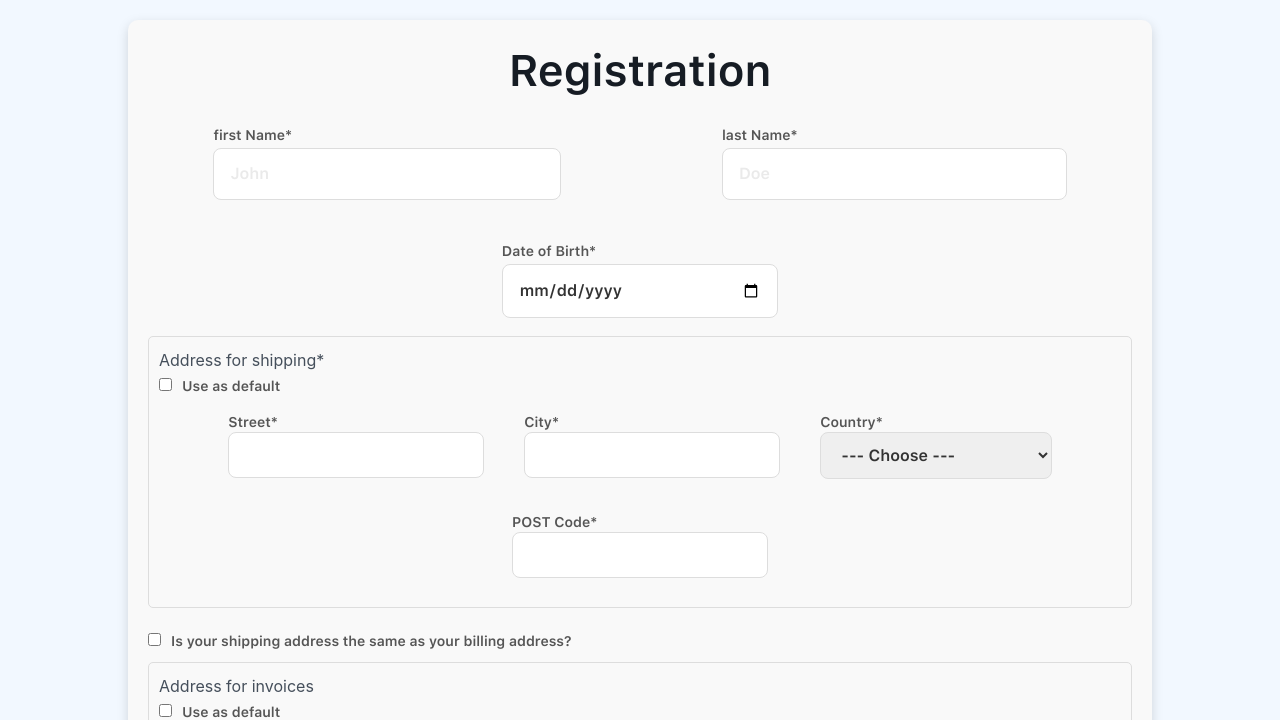
Test: checking input wrong value on Registration page › must be error message when input wrong value in Postal code for country Georgia on Registration page
Select "Georgia" in the dropdown with id "address" at (936, 456), box [820,432,1052,479]
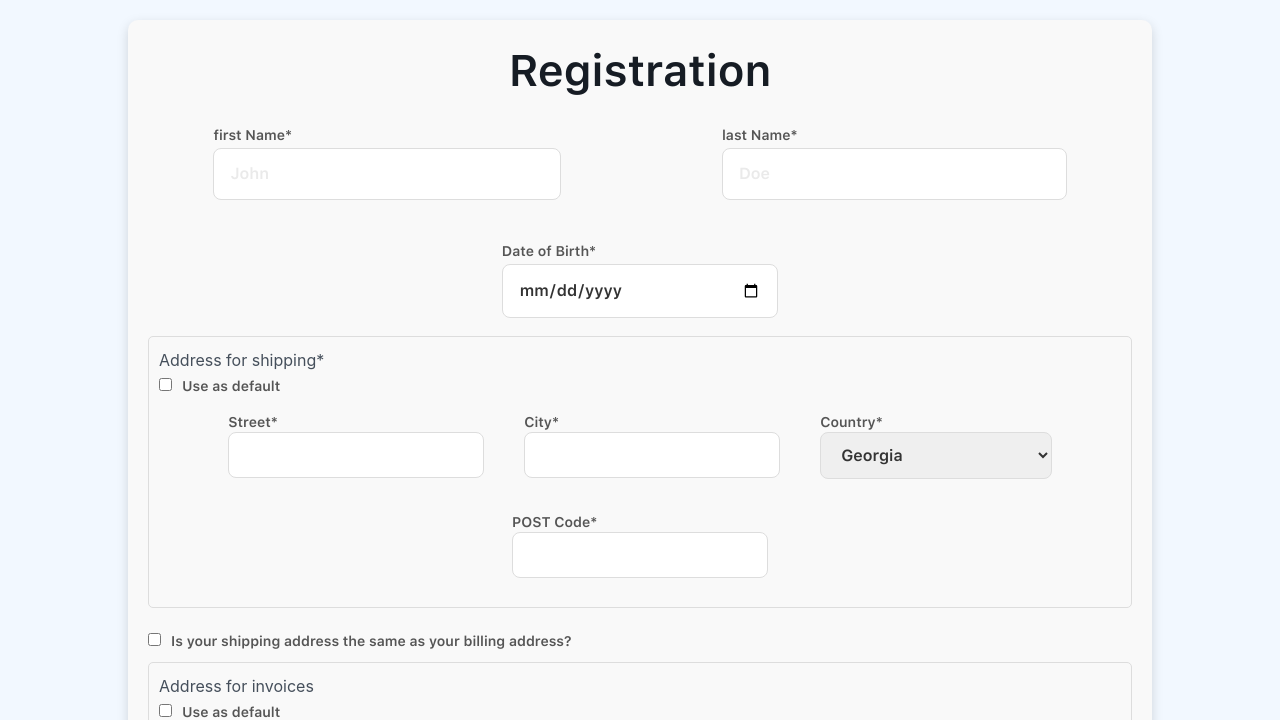
Type "100" into the field with id "address" at (640, 555), box [512,532,768,578]
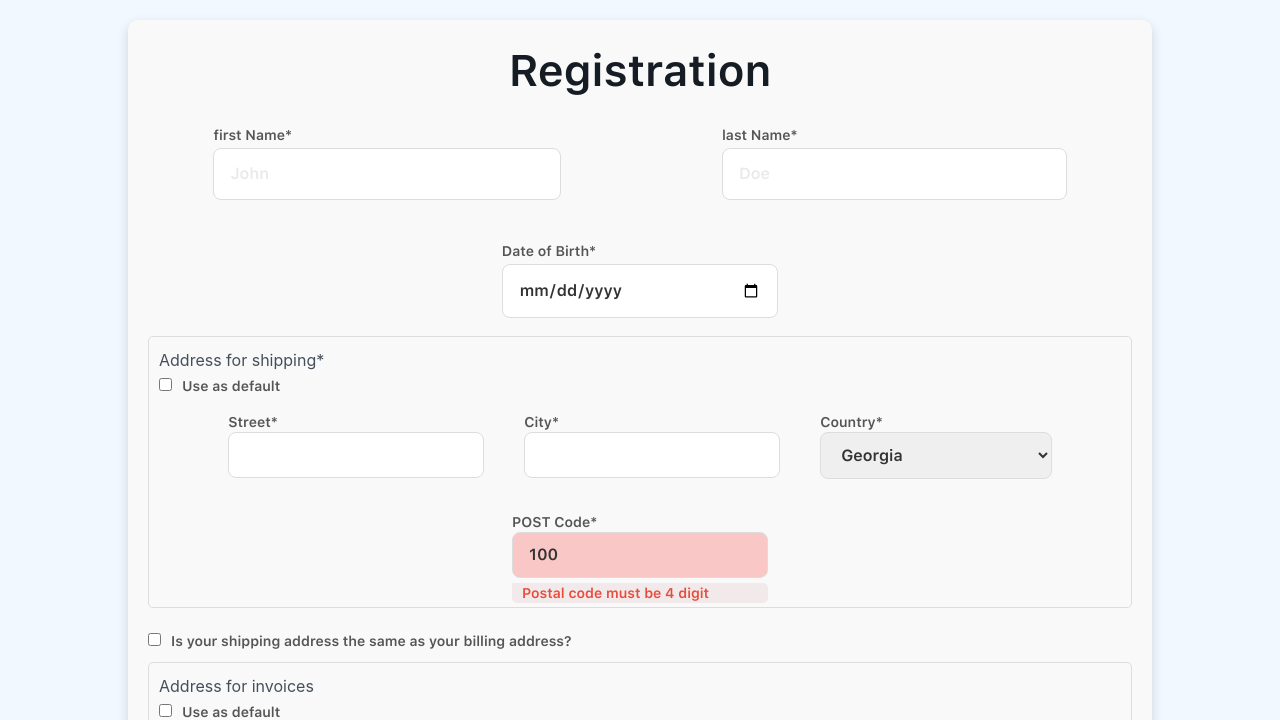
Now the text "Postal code must be 4 digit" is shown, box [512,583,768,603]
